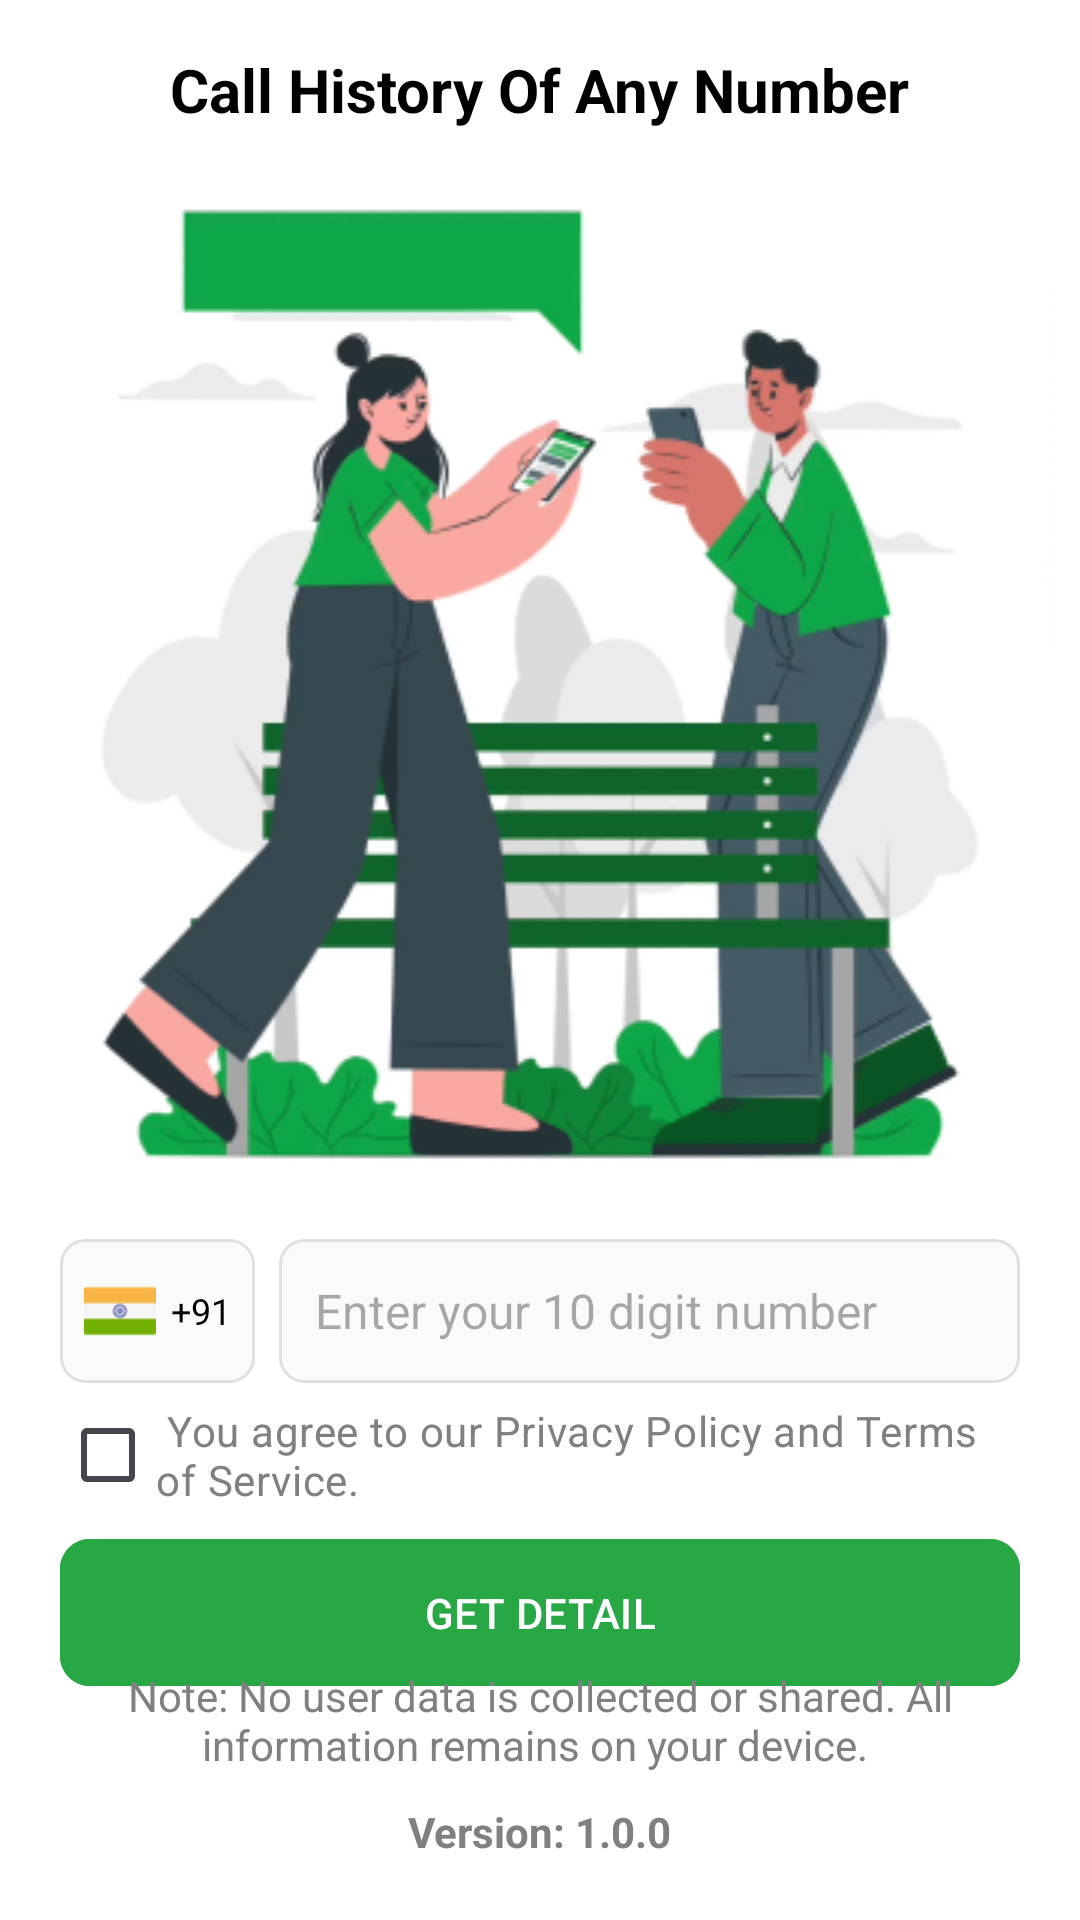

Icons on this 1080px x 1920px Android screen, each with the point to tap as [x,y]:
india: [120,1311]
